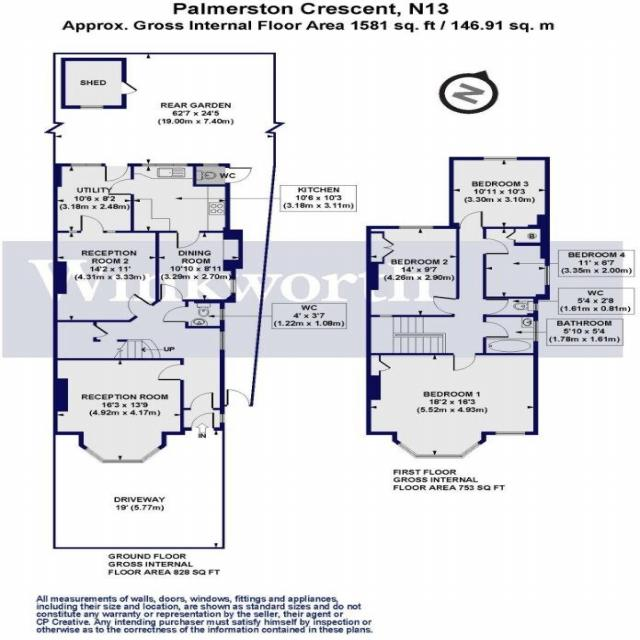DOOR: (127, 292, 155, 318), (431, 295, 460, 315), (106, 178, 135, 196), (189, 391, 215, 410), (175, 230, 201, 249), (482, 238, 510, 255), (157, 364, 185, 381), (190, 412, 215, 431), (225, 388, 250, 407), (483, 321, 509, 339), (482, 298, 509, 315), (162, 306, 189, 323), (452, 352, 476, 371), (459, 211, 484, 229), (158, 283, 183, 301)
ROOM: (366, 353, 539, 459), (53, 358, 184, 464), (52, 215, 160, 322), (108, 163, 230, 250), (366, 226, 460, 317), (449, 156, 550, 229), (155, 228, 243, 302), (482, 226, 550, 300)
WINDOW: (395, 441, 483, 459), (83, 446, 162, 464), (482, 156, 518, 161), (494, 431, 526, 436), (218, 331, 226, 351), (533, 320, 540, 342), (544, 264, 551, 286), (398, 225, 434, 229), (230, 278, 237, 294), (219, 308, 226, 321), (219, 413, 225, 423), (533, 303, 539, 312), (378, 314, 393, 317)
